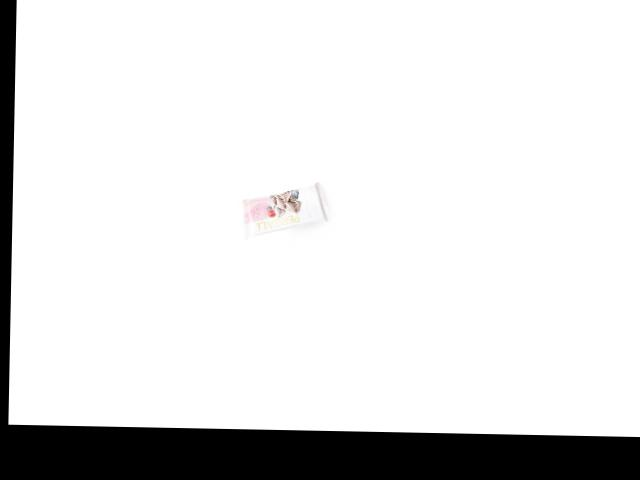chocolate: (242, 178, 326, 240)
